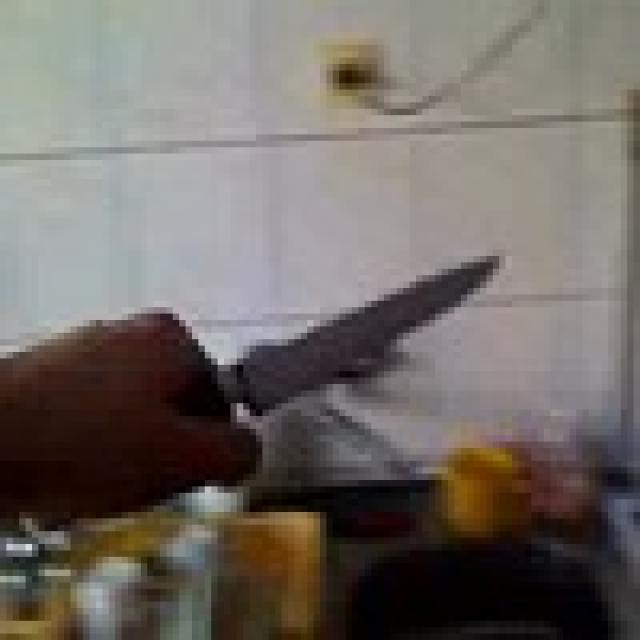Knife: (198, 237, 518, 435)
